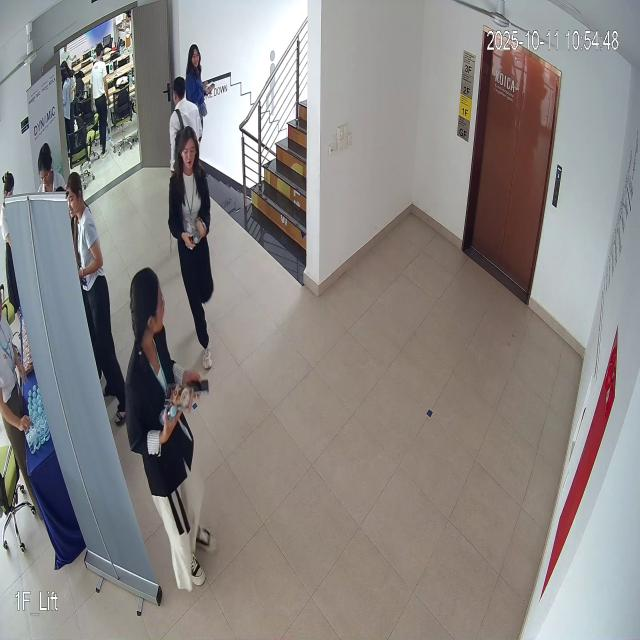face: (175, 117, 200, 182), (66, 168, 86, 222)
